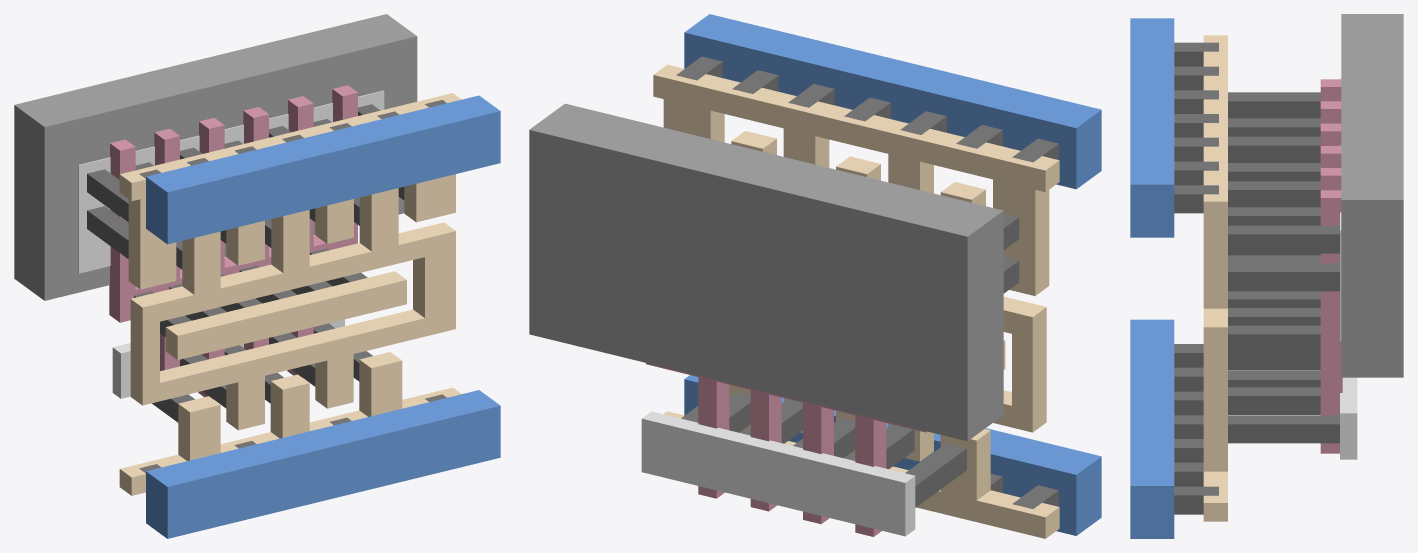
File: sky130_fd_sc_hd__clkinv_4.gds.gltf
3 renders of one model, left to right at view 1: azimuth 30°, elevation 25°; view 2: azimuth 150°, elevation 25°; view 3: azimuth 270°, elevation 25°, orthographic. The views are drawn at different scales.
Parts seen in each view (by area): view 1: sky130_fd_sc_hd__clkinv_4_li1, sky130_fd_sc_hd__clkinv_4_met1, sky130_fd_sc_hd__clkinv_4_nwell, sky130_fd_sc_hd__clkinv_4_poly, sky130_fd_sc_hd__clkinv_4_licon, sky130_fd_sc_hd__clkinv_4_diff, sky130_fd_sc_hd__clkinv_4_mcon; view 2: sky130_fd_sc_hd__clkinv_4_nwell, sky130_fd_sc_hd__clkinv_4_li1, sky130_fd_sc_hd__clkinv_4_met1, sky130_fd_sc_hd__clkinv_4_diff, sky130_fd_sc_hd__clkinv_4_poly, sky130_fd_sc_hd__clkinv_4_licon, sky130_fd_sc_hd__clkinv_4_mcon; view 3: sky130_fd_sc_hd__clkinv_4_licon, sky130_fd_sc_hd__clkinv_4_nwell, sky130_fd_sc_hd__clkinv_4_met1, sky130_fd_sc_hd__clkinv_4_mcon, sky130_fd_sc_hd__clkinv_4_li1, sky130_fd_sc_hd__clkinv_4_poly, sky130_fd_sc_hd__clkinv_4_diff.
Part boxes in pixels (bbox=[...]): sky130_fd_sc_hd__clkinv_4_li1: bbox=[119, 93, 461, 495]; sky130_fd_sc_hd__clkinv_4_met1: bbox=[146, 95, 500, 538]; sky130_fd_sc_hd__clkinv_4_nwell: bbox=[14, 14, 417, 300]; sky130_fd_sc_hd__clkinv_4_poly: bbox=[109, 85, 357, 399]; sky130_fd_sc_hd__clkinv_4_licon: bbox=[87, 104, 404, 422]; sky130_fd_sc_hd__clkinv_4_diff: bbox=[78, 90, 384, 398]; sky130_fd_sc_hd__clkinv_4_mcon: bbox=[139, 100, 446, 472]; sky130_fd_sc_hd__clkinv_4_nwell: bbox=[529, 103, 1003, 441]; sky130_fd_sc_hd__clkinv_4_li1: bbox=[653, 64, 1059, 538]; sky130_fd_sc_hd__clkinv_4_met1: bbox=[684, 14, 1101, 535]; sky130_fd_sc_hd__clkinv_4_diff: bbox=[641, 411, 915, 536]; sky130_fd_sc_hd__clkinv_4_poly: bbox=[646, 363, 926, 536]; sky130_fd_sc_hd__clkinv_4_licon: bbox=[696, 213, 1019, 507]; sky130_fd_sc_hd__clkinv_4_mcon: bbox=[676, 56, 1058, 508]; sky130_fd_sc_hd__clkinv_4_licon: bbox=[1228, 92, 1339, 443]; sky130_fd_sc_hd__clkinv_4_nwell: bbox=[1341, 14, 1403, 377]; sky130_fd_sc_hd__clkinv_4_met1: bbox=[1130, 18, 1174, 538]; sky130_fd_sc_hd__clkinv_4_mcon: bbox=[1174, 42, 1218, 514]; sky130_fd_sc_hd__clkinv_4_li1: bbox=[1203, 35, 1227, 521]; sky130_fd_sc_hd__clkinv_4_poly: bbox=[1320, 79, 1342, 453]; sky130_fd_sc_hd__clkinv_4_diff: bbox=[1340, 78, 1357, 459].
Size of the model in its own units: 3.6 by 3.2 by 2.24.
